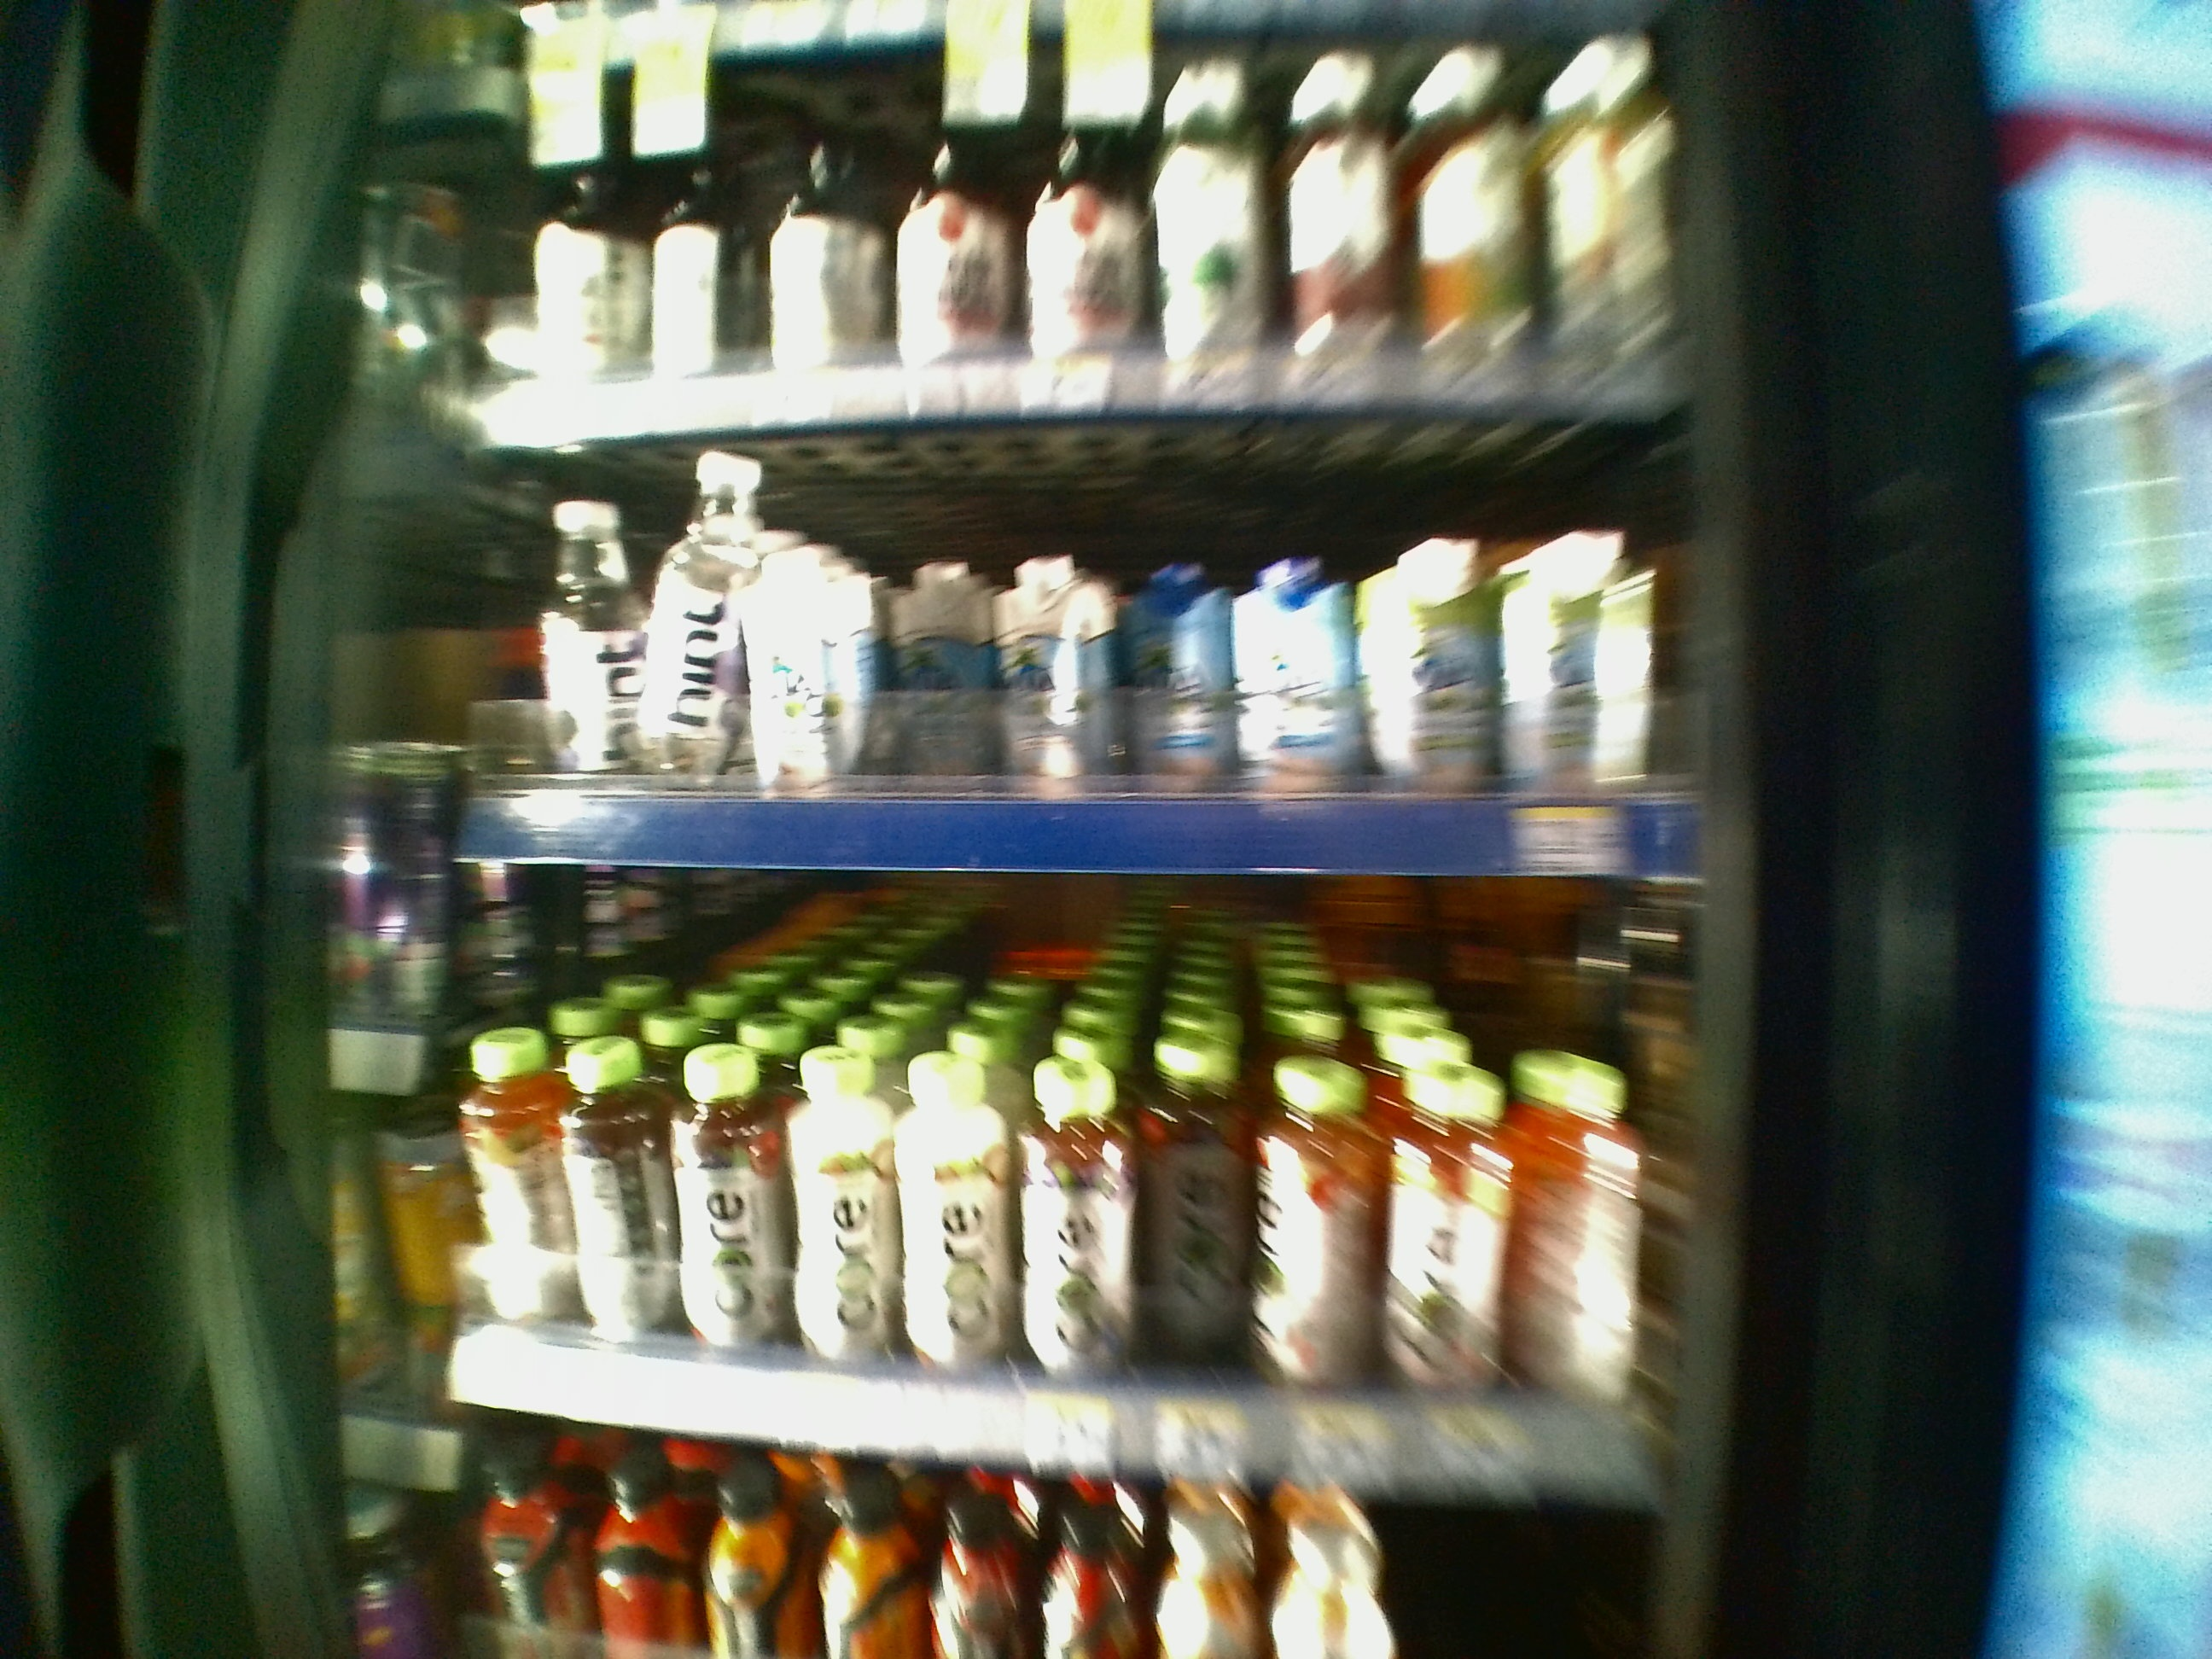shelf: (282, 863, 1719, 1476), (317, 411, 1730, 856)
